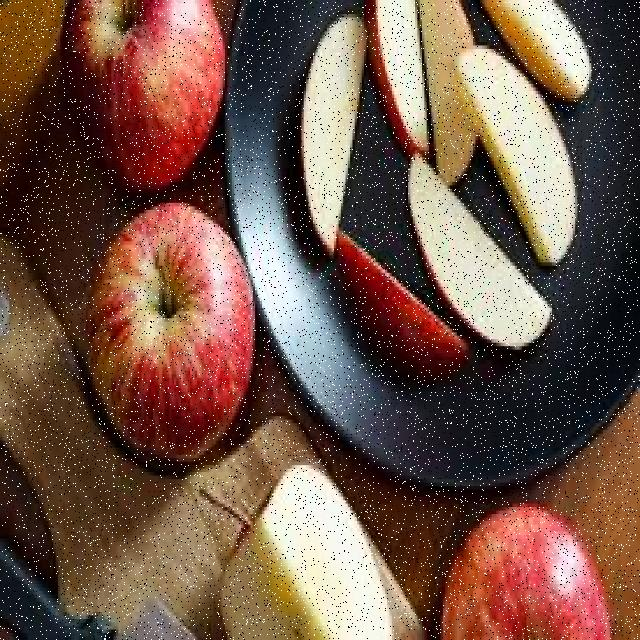Apple: (79, 203, 256, 458), (200, 458, 394, 640), (61, 0, 225, 192), (458, 50, 578, 254), (442, 501, 612, 640), (401, 154, 514, 338), (289, 12, 366, 250), (331, 228, 455, 367), (424, 6, 476, 180), (376, 3, 419, 159), (492, 2, 592, 62)
